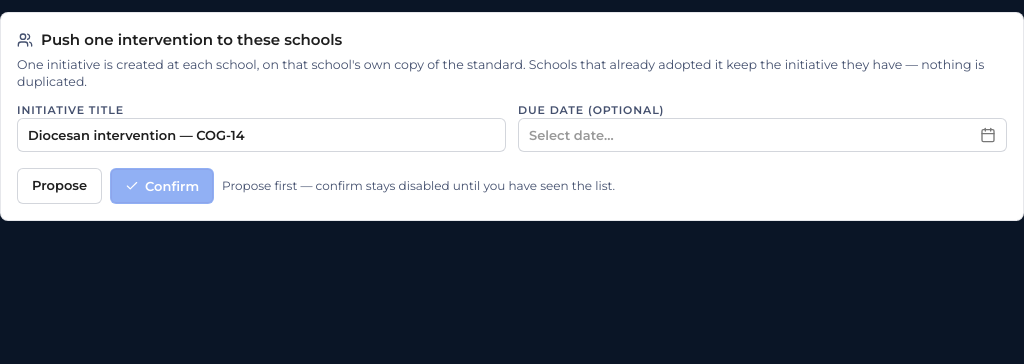
WEB-7 — the applied panel says what DID happen, and names what failed › a completed write is never described in the future tense
Click the button "Propose": [60, 186] box [17,168,102,204]
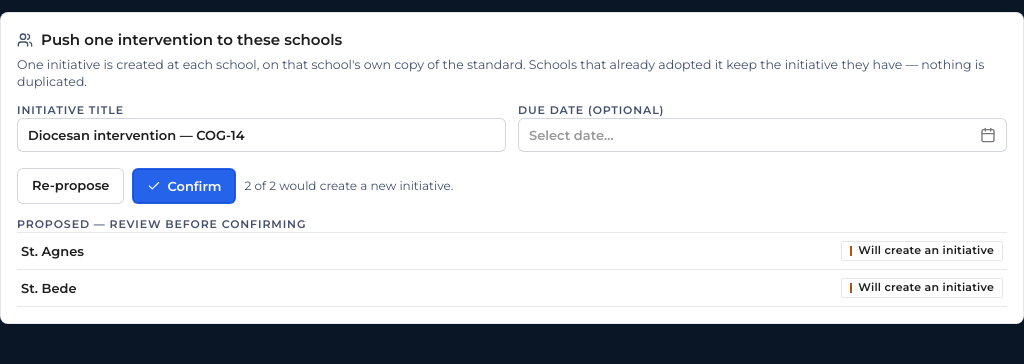
Expected: the button "Confirm" is enabled
Click the button "Confirm": [184, 186] box [132,168,236,204]
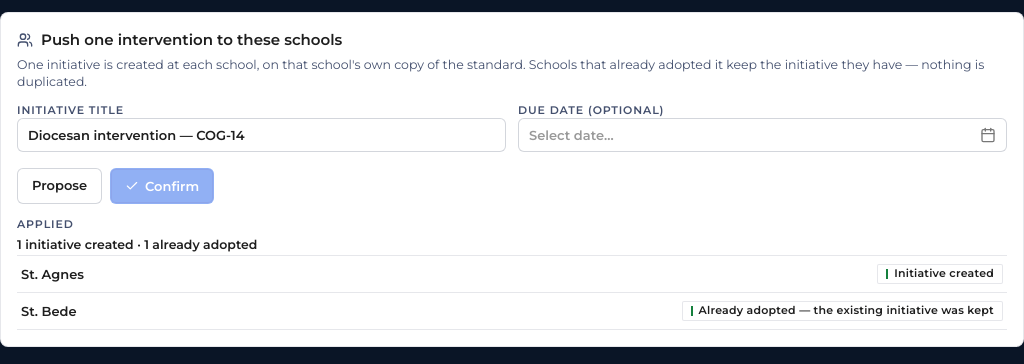
Expected: the text "Applied" is shown, [17,217,74,231]
Expected: the text "Will create an initiative" is gone
Expected: the text "initiative created" is shown, [17,237,257,252]
